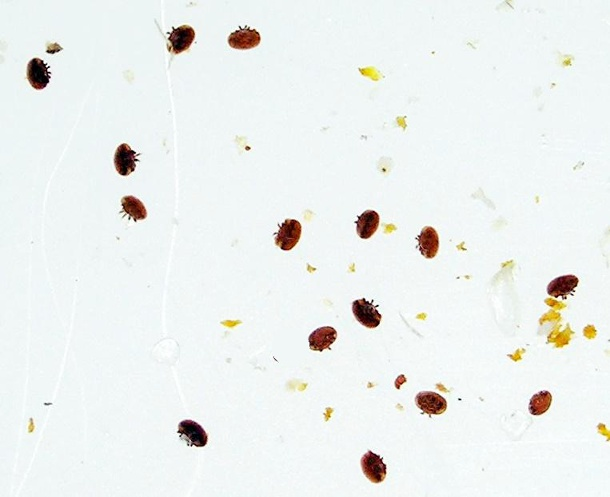Varroa: (271, 211, 301, 245), (423, 387, 450, 418), (308, 321, 334, 351), (552, 270, 578, 299), (170, 21, 195, 49), (352, 296, 380, 321), (417, 227, 442, 253), (524, 390, 549, 415), (363, 447, 388, 472), (123, 193, 148, 218), (109, 147, 135, 171), (354, 207, 375, 236), (234, 26, 256, 53), (27, 68, 47, 93), (186, 426, 201, 440)
